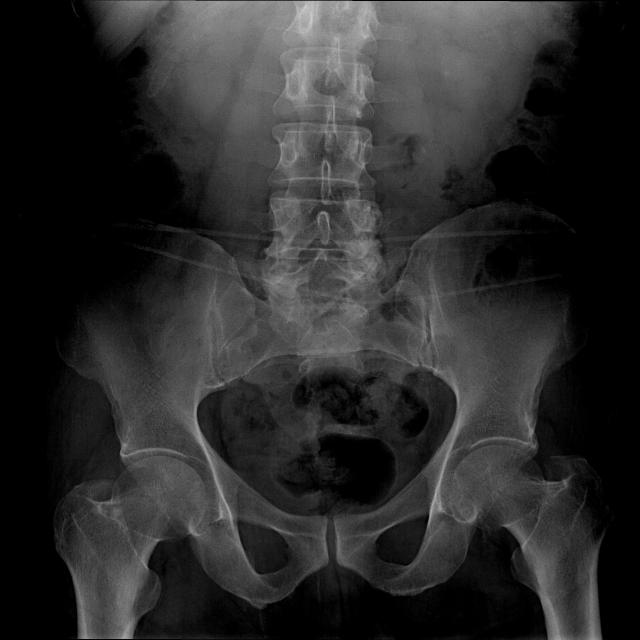normal-left: (453, 445, 609, 640)
normal-right: (54, 456, 206, 640)
